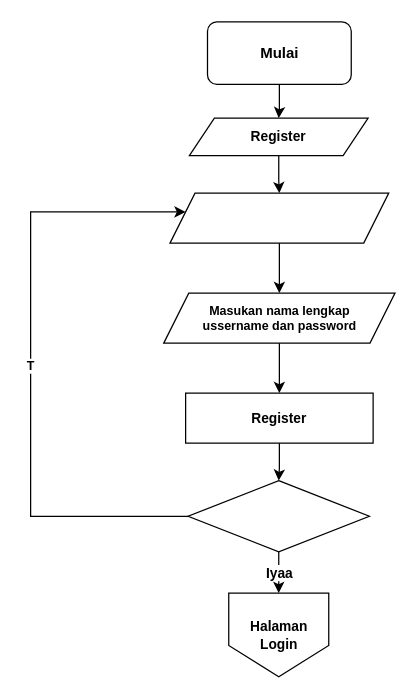
Some shapes in this 418 by 699 pixel diagram are drawn without their labels. The shapes that lost their labels are listed below. From the top down, each one's centre as x and y in pixels, then its label:
point 279,217: Tampil form register
point 278,515: validasi
